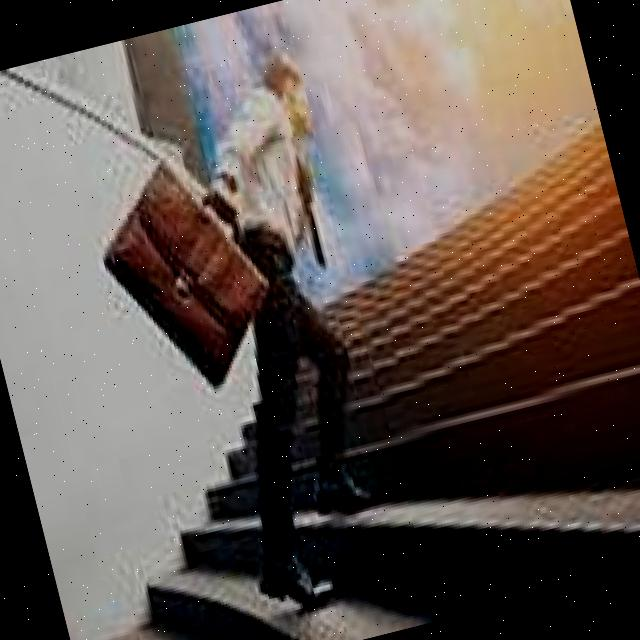stairs: (81, 106, 640, 640)
